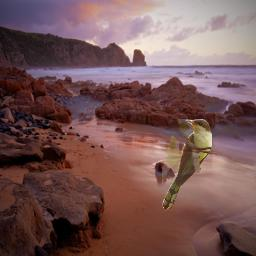Cuckoo: (162, 119, 212, 211)
